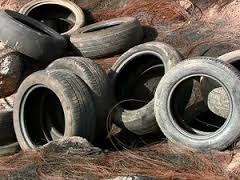tire: (105, 42, 192, 139), (153, 56, 240, 151), (12, 69, 97, 156), (41, 56, 114, 148), (1, 9, 70, 67), (9, 1, 85, 47), (67, 18, 145, 54)
